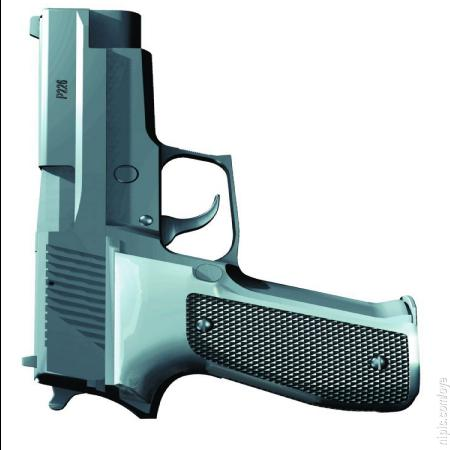Pistol: (17, 7, 420, 428)
